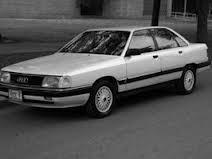car: (1, 28, 212, 120)
